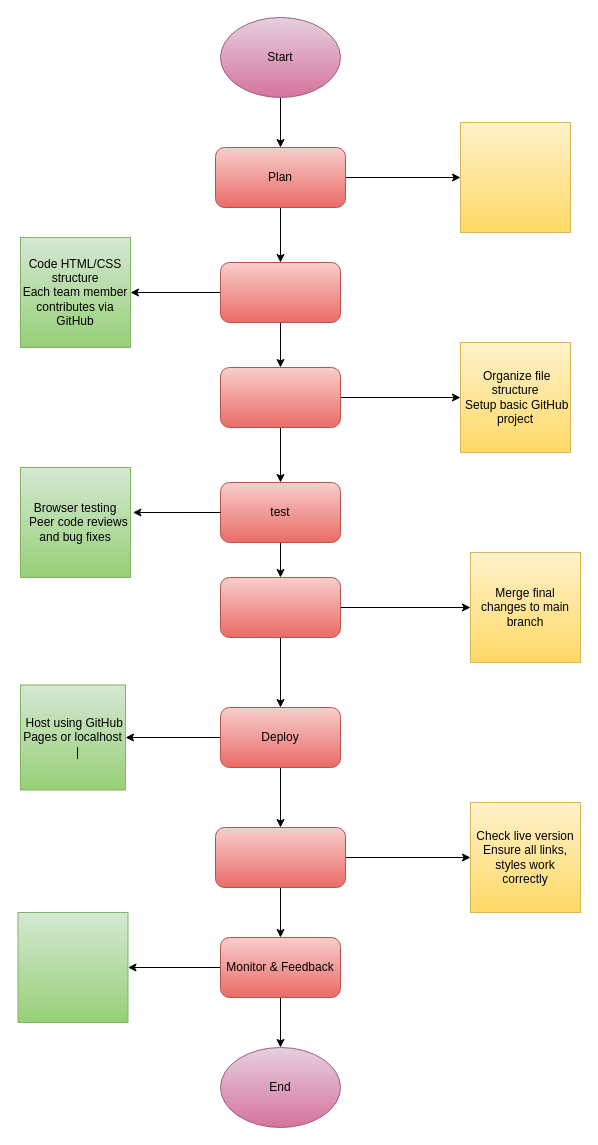
Some shapes in this 598 by 1145 pixel diagram are drawn without their labels. Here are the shapes that lost their labels. From the top down, the centre of each, then its label:
point (515, 177): Decide app layout and features Assign tasks to collaborators
point (280, 292): Develop
point (280, 397): Build
point (280, 607): Relesase
point (280, 857): Operate
point (72, 967): Team reviews Fix reported issues
